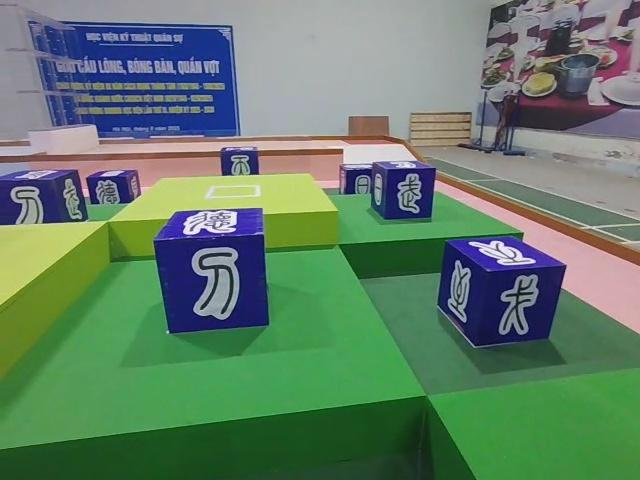R2 Fake Blue: (152, 209, 270, 337), (437, 235, 565, 348), (0, 170, 86, 229), (371, 159, 438, 221), (87, 168, 143, 204), (217, 146, 258, 178), (338, 163, 375, 195)
